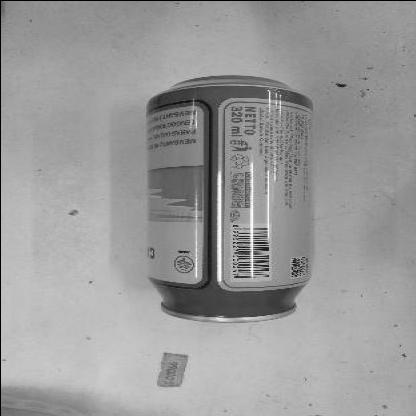alumunium_can: (142, 71, 314, 323)
